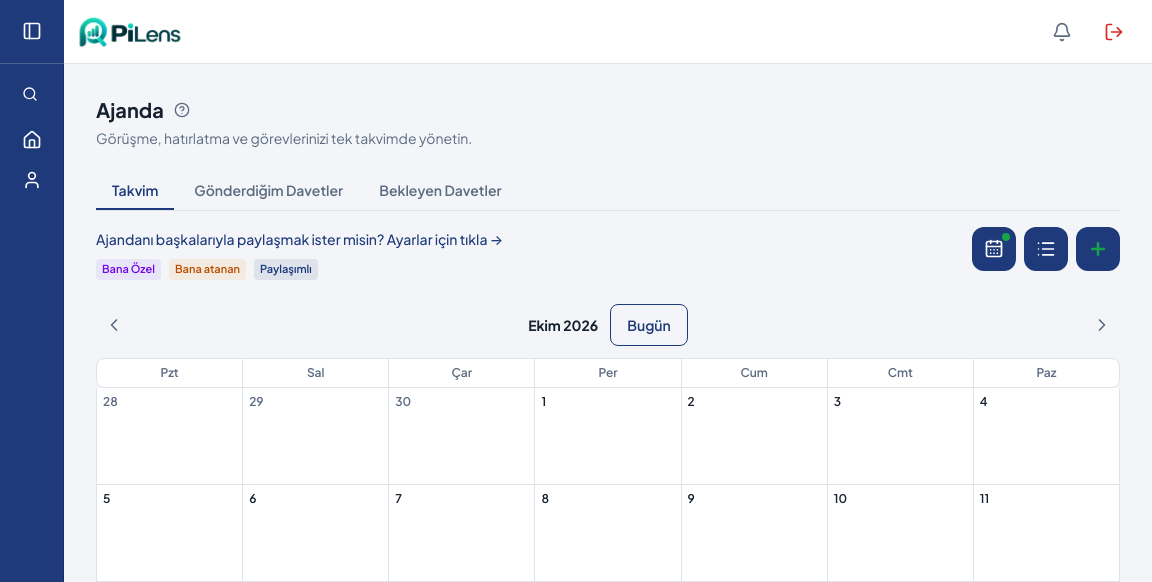
Test: CalendarPage › liste gorunumunde etkinlikleri gosterir
Step 1. Click the button named "Liste Görünümü" → (1046, 249), box [1024,227,1068,271]
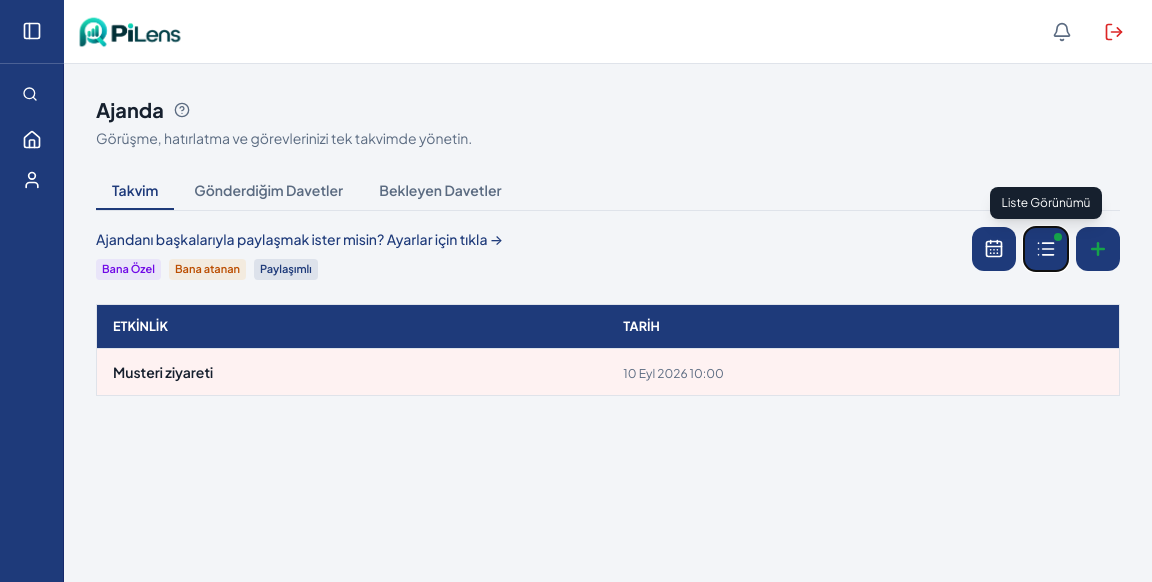
Expected: the text "Musteri ziyareti" is shown, [113,362,213,380]
